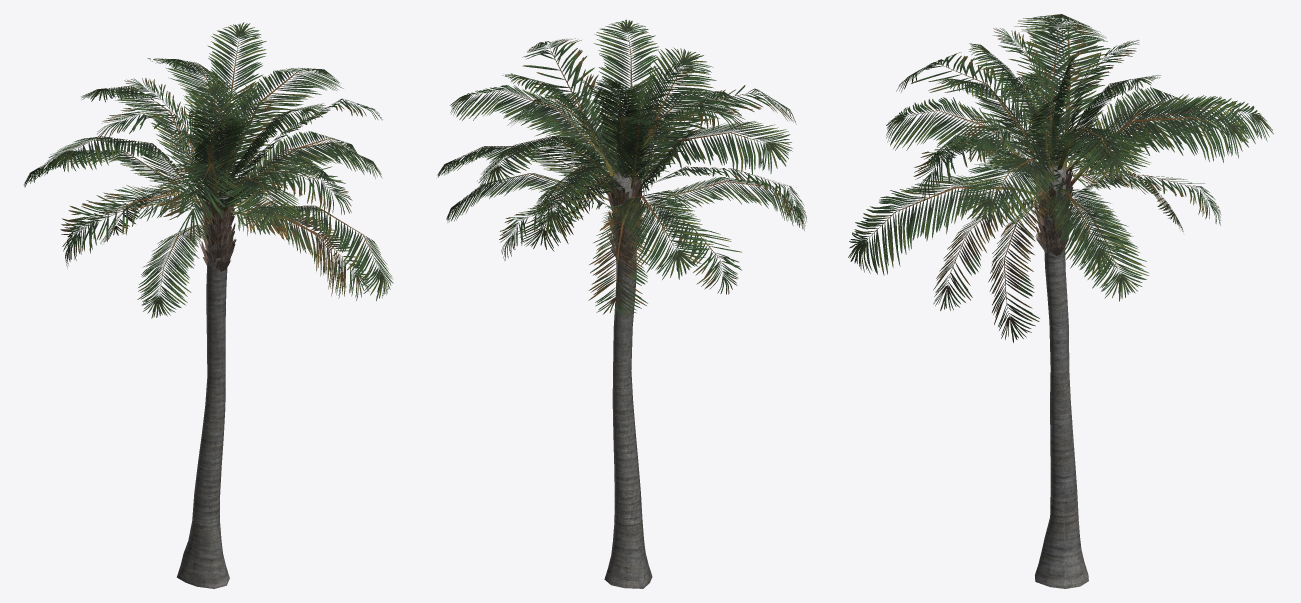
Rendered from MB_Palm_Miami_02.fbx.
The picture shows the model from 3 angles, left to right: view 1: azimuth 30°, elevation 25°; view 2: azimuth 150°, elevation 25°; view 3: azimuth 270°, elevation 25°; orthographic projection. The views are drawn at different scales.
Parts seen in each view (by area): view 1: MB_Palm_Miami_02_LOD0; view 2: MB_Palm_Miami_02_LOD0; view 3: MB_Palm_Miami_02_LOD0.
Part boxes in pixels (x1,y1,x2,y2): MB_Palm_Miami_02_LOD0: (24,22,393,588); MB_Palm_Miami_02_LOD0: (437,19,806,588); MB_Palm_Miami_02_LOD0: (848,14,1273,588).
Size of what is drawn, in the model's own units: 442 by 611 by 459.
